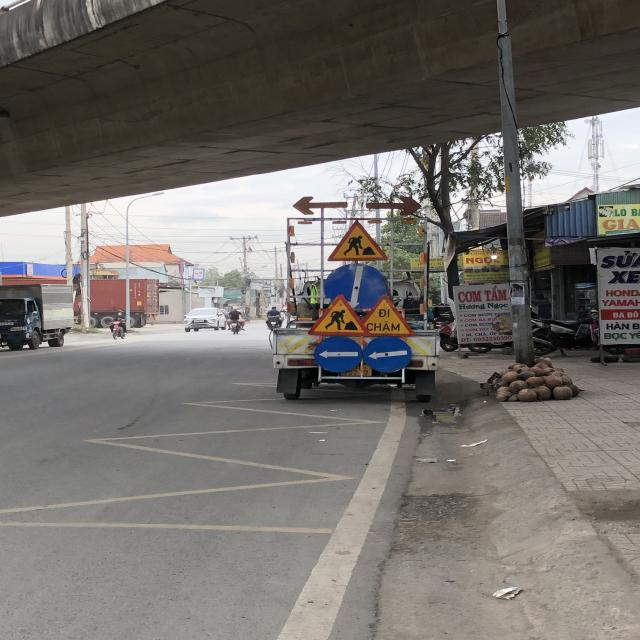Bien bao cong truong: (326, 218, 391, 263), (304, 292, 368, 337)
